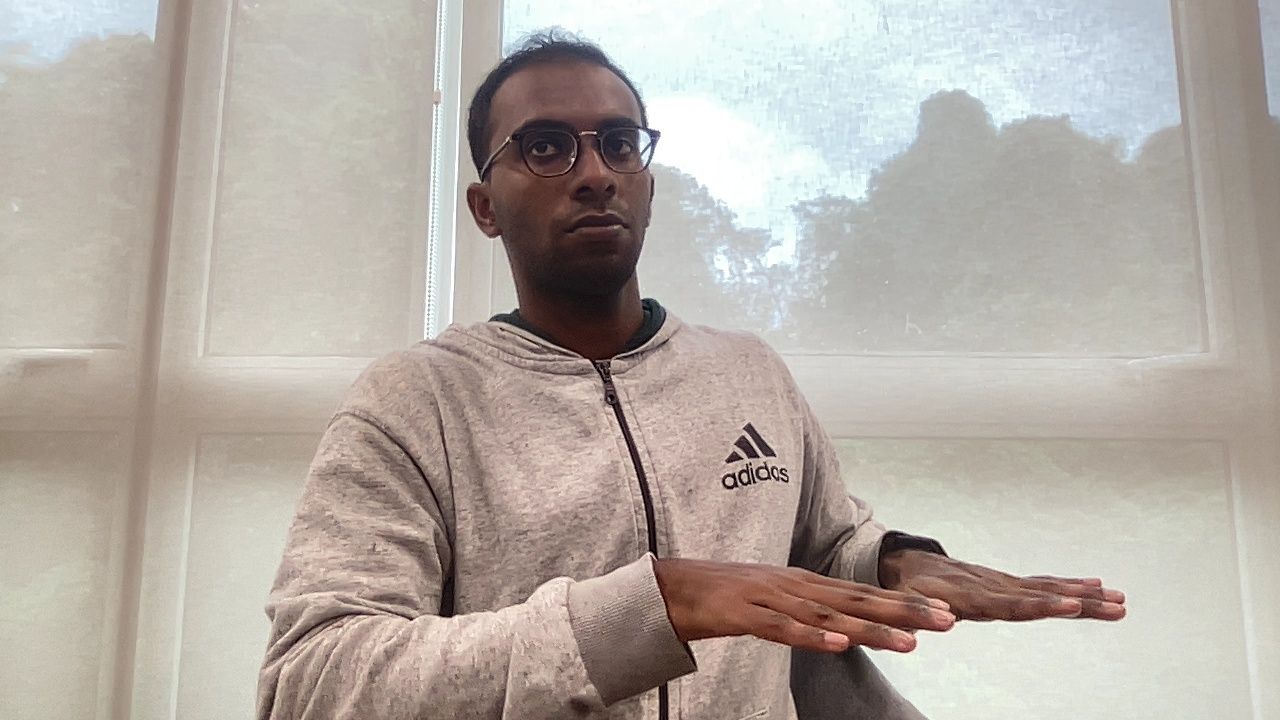finish: (696, 532, 1131, 660)
